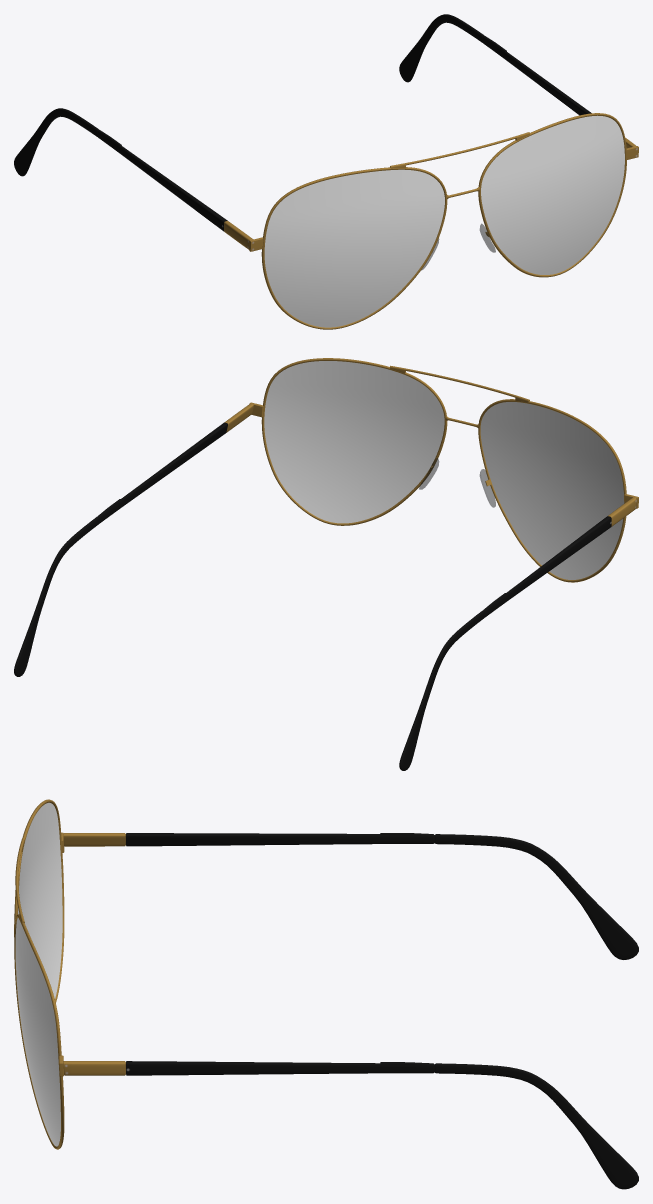
The model's file is parisGlasses.glb.
3 renders of one model, top to bottom at view 1: azimuth 30°, elevation 25°; view 2: azimuth 150°, elevation 25°; view 3: azimuth 270°, elevation 25°, orthographic. The views are drawn at different scales.
Parts seen in each view (by area): view 1: aviatorGlasses; view 2: aviatorGlasses; view 3: aviatorGlasses.
Boxes of the visible parts, bbox=[...] form: aviatorGlasses: bbox=[14, 14, 638, 329]; aviatorGlasses: bbox=[14, 358, 638, 770]; aviatorGlasses: bbox=[14, 799, 638, 1189].
Bounding box in the file's own units: 0.2228 × 0.0886 × 0.2548.
1 material, 1 textured.
